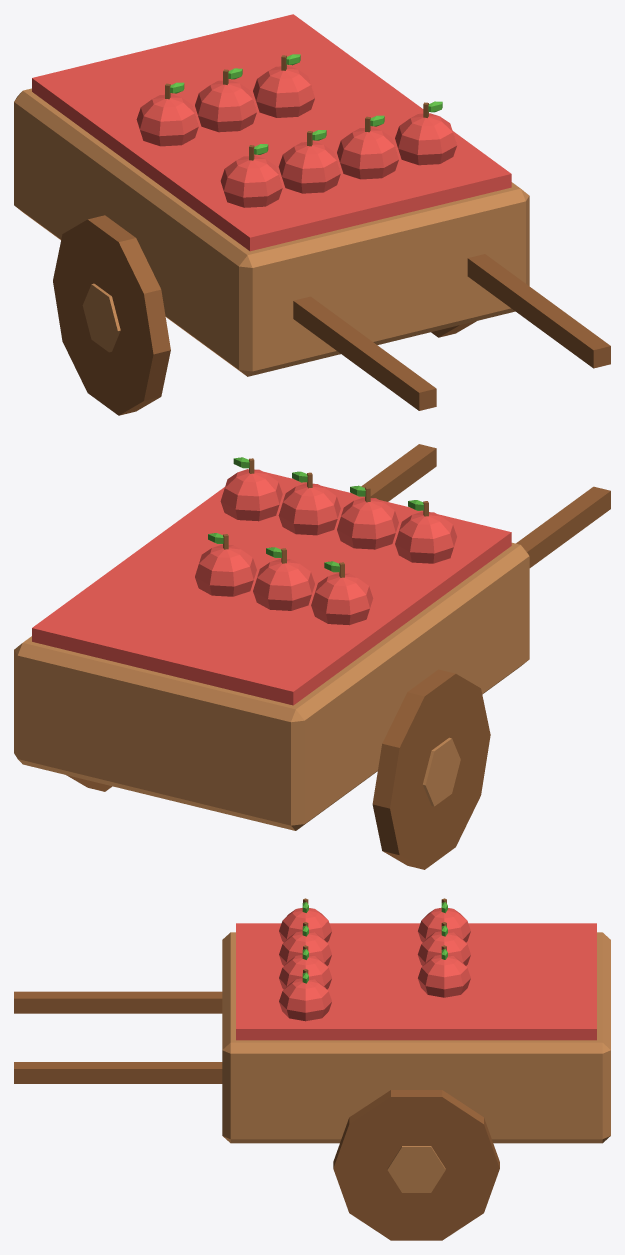
Rendered from prop_apple_cart.glb.
3 views of the same model, one above another, from view 1: azimuth 30°, elevation 25°; view 2: azimuth 150°, elevation 25°; view 3: azimuth 270°, elevation 25° (orthographic). The views are drawn at different scales.
Visible parts, largest first — view 1: prop_apple_cart; view 2: prop_apple_cart; view 3: prop_apple_cart.
Boxes of the visible parts, x1,y1,x2,y2 form: prop_apple_cart: (14,14,610,415); prop_apple_cart: (14,444,610,869); prop_apple_cart: (14,898,610,1240).
Bounding box in the file's own units: 1.18 × 0.9453 × 2.15.
